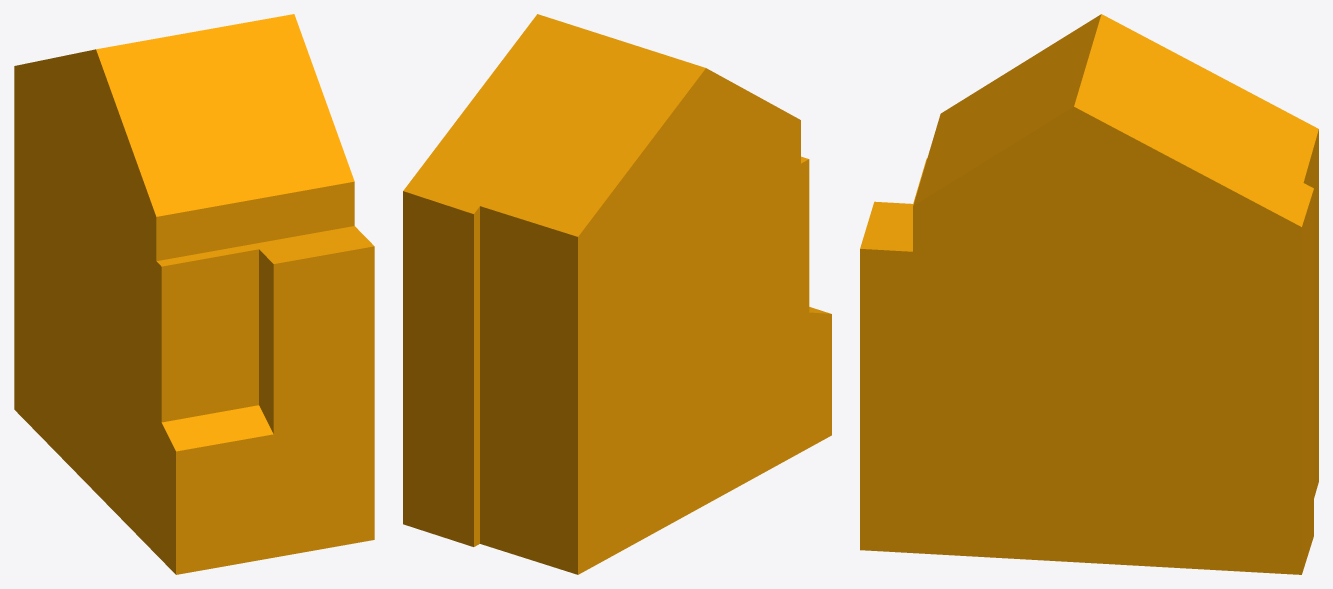
File: DEHB01ALn0001Oxl.gltf
3 views of the same model, side by side, from view 1: azimuth 30°, elevation 25°; view 2: azimuth 150°, elevation 25°; view 3: azimuth 270°, elevation 25° (orthographic). The views are drawn at different scales.
Visible parts, largest first — view 1: Z_UP; view 2: Z_UP; view 3: Z_UP.
Boxes of the visible parts, x1=… form: Z_UP: x1=14, y1=14, x2=374, y2=574; Z_UP: x1=403, y1=14, x2=831, y2=574; Z_UP: x1=860, y1=14, x2=1318, y2=574.
Bounding box in the file's own units: 9.96 × 18.02 × 16.46.
